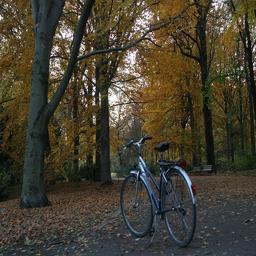bicycle: (178, 174, 256, 256)
